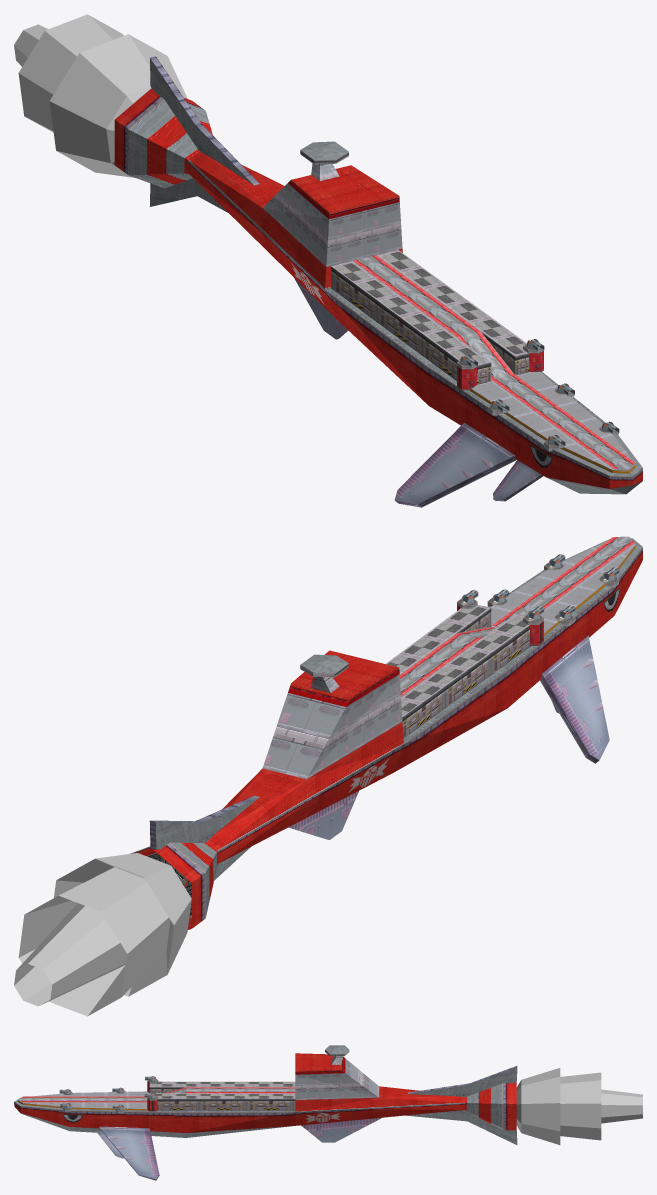
File: Small Ship Low.obj
3 views of the same model, one above another, from view 1: azimuth 30°, elevation 25°; view 2: azimuth 150°, elevation 25°; view 3: azimuth 270°, elevation 25° (orthographic). The views are drawn at different scales.
Size of the model in its own units: 68.23 by 65.19 by 345.
Materials: 21 (20 with a texture image).
